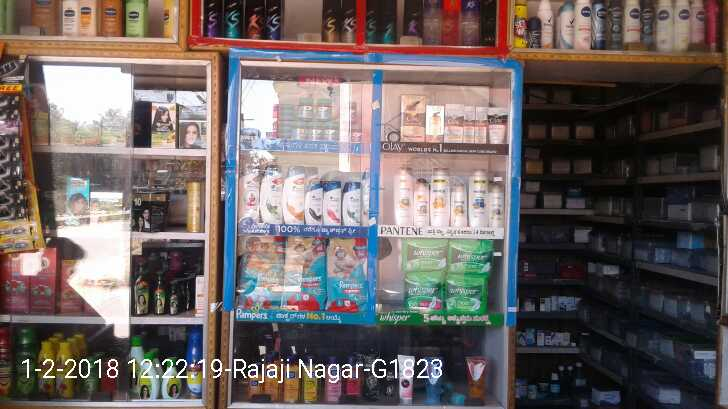beauty: (428, 165, 452, 226), (463, 166, 487, 227), (398, 92, 426, 143), (393, 164, 415, 225), (282, 162, 303, 225), (260, 166, 283, 220), (304, 179, 324, 227), (341, 181, 363, 223), (484, 181, 504, 227), (411, 175, 429, 225), (444, 102, 464, 143), (323, 184, 342, 226), (487, 106, 508, 144), (450, 182, 467, 225), (427, 102, 443, 141), (476, 104, 487, 144), (465, 105, 476, 143)
pharmacy: (235, 234, 282, 306), (284, 234, 325, 312), (327, 237, 366, 313), (401, 238, 448, 273), (448, 237, 489, 277), (403, 272, 440, 314), (450, 271, 485, 313), (296, 93, 314, 120), (312, 96, 332, 120), (288, 119, 306, 144), (324, 125, 341, 144), (306, 124, 323, 142)
